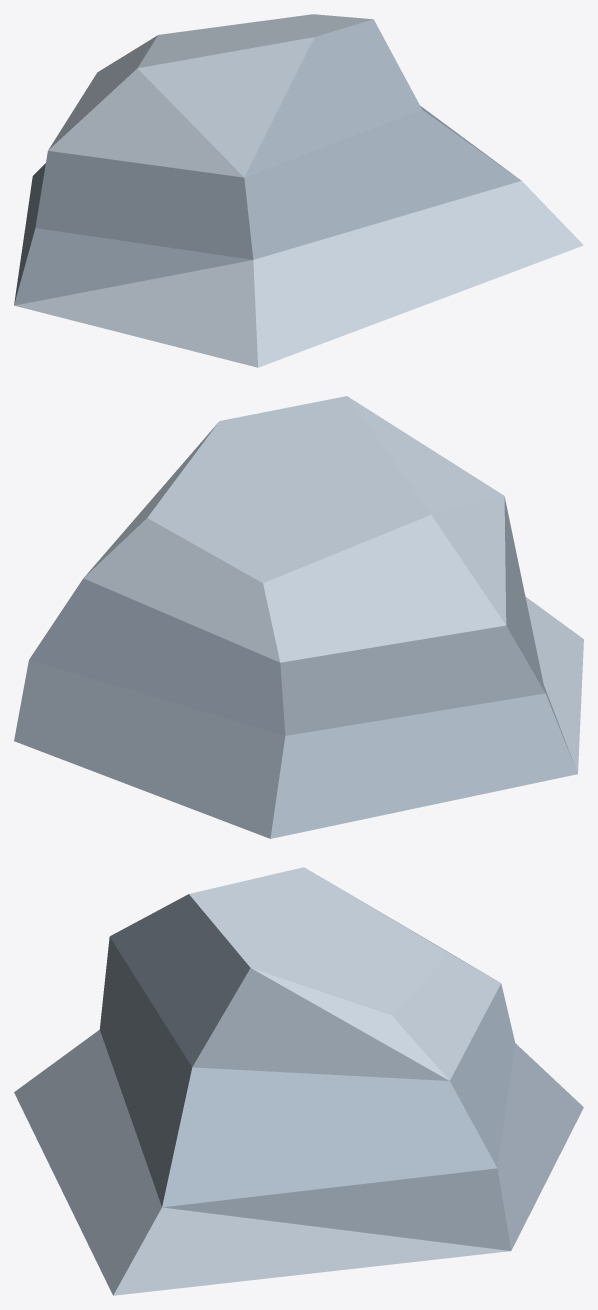
The model's file is Icemound1_Alt4.fbx.
3 renders of one model, top to bottom at view 1: azimuth 30°, elevation 25°; view 2: azimuth 150°, elevation 25°; view 3: azimuth 270°, elevation 25°, orthographic. The views are drawn at different scales.
Parts seen in each view (by area): view 1: Icemound1_Alt4; view 2: Icemound1_Alt4; view 3: Icemound1_Alt4.
Part boxes in pixels (left/top/right/bottom): Icemound1_Alt4: left=14, top=14, right=583, bottom=367; Icemound1_Alt4: left=14, top=396, right=583, bottom=838; Icemound1_Alt4: left=14, top=867, right=583, bottom=1295.
Size of the model in its own units: 1.19 by 0.5615 by 1.07.
